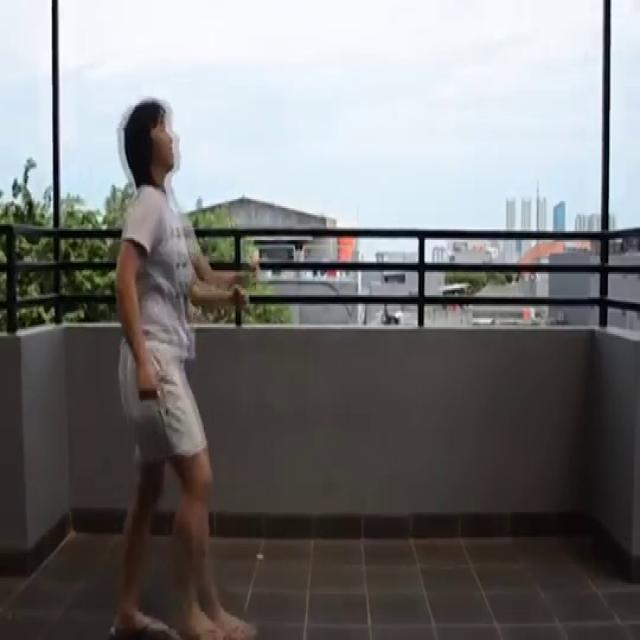normal: (84, 87, 266, 640)
